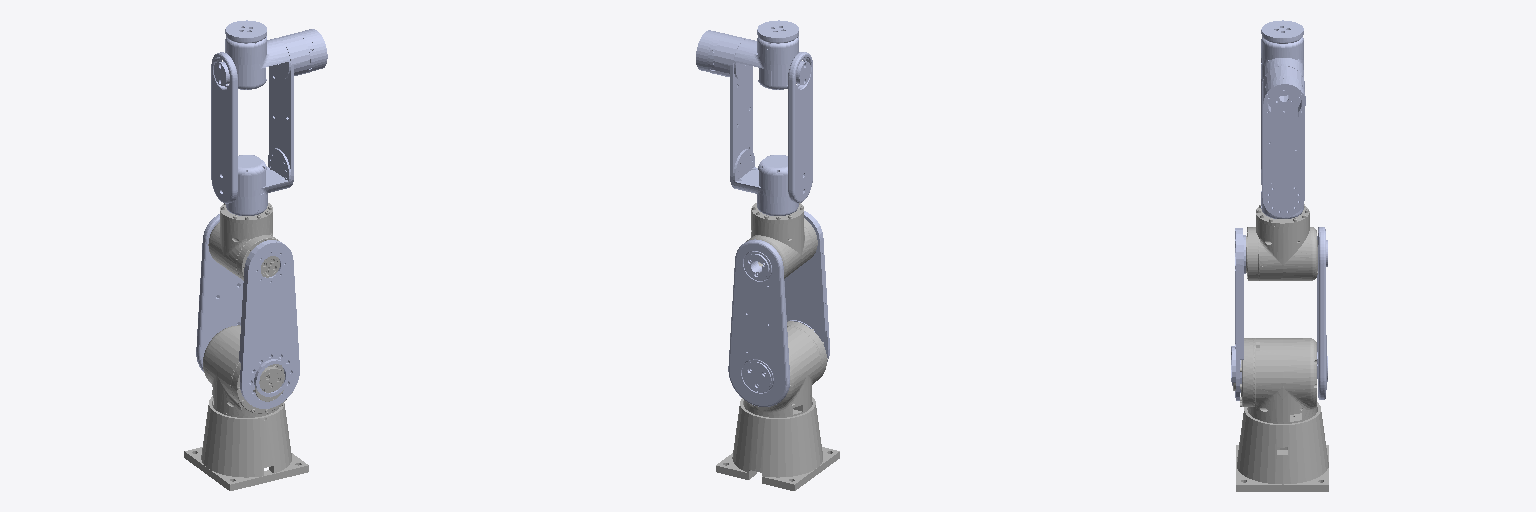
The robot description file, URDF, robot "gemini_arm_description":
<robot
  name="gemini_arm_description">
  <link
    name="base_link">
    <inertial>
      <origin
        xyz="-0.000343175586928216 0.00159787363524551 0.0403642614752203"
        rpy="0 0 0" />
      <mass
        value="0.538356341355379" />
      <inertia
        ixx="0.000222899831003166"
        ixy="3.6750996181586E-07"
        ixz="-6.55749815031899E-07"
        iyy="0.000221481349506303"
        iyz="4.21671858829903E-06"
        izz="3.91522409370846E-06" />
    </inertial>
    <visual>
      <origin
        xyz="0 0 0"
        rpy="0 0 0" />
      <geometry>
        <mesh
          filename="package://gemini_arm_description/meshes/base_link.STL" />
      </geometry>
      <material
        name="">
        <color
          rgba="0.752941176470588 0.752941176470588 0.752941176470588 1" />
      </material>
    </visual>
    <collision>
      <origin
        xyz="0 0 0"
        rpy="0 0 0" />
      <geometry>
        <mesh
          filename="package://gemini_arm_description/meshes/base_link.STL" />
      </geometry>
    </collision>
  </link>
  <link
    name="link1">
    <inertial>
      <origin
        xyz="0.000243676555697897 -0.00765546940645542 0.0548166765281359"
        rpy="0 0 0" />
      <mass
        value="0.429111339765701" />
      <inertia
        ixx="0.000409405108031968"
        ixy="7.26674271771078E-06"
        ixz="-5.90571331289724E-07"
        iyy="8.54561562597211E-05"
        iyz="2.90764208063658E-05"
        izz="0.000326683712310297" />
    </inertial>
    <visual>
      <origin
        xyz="0 0 0"
        rpy="0 0 0" />
      <geometry>
        <mesh
          filename="package://gemini_arm_description/meshes/link1.STL" />
      </geometry>
      <material
        name="">
        <color
          rgba="0.752941176470588 0.752941176470588 0.752941176470588 1" />
      </material>
    </visual>
    <collision>
      <origin
        xyz="0 0 0"
        rpy="0 0 0" />
      <geometry>
        <mesh
          filename="package://gemini_arm_description/meshes/link1.STL" />
      </geometry>
    </collision>
  </link>
  <joint
    name="joint1"
    type="continuous">
    <origin
      xyz="0 0 0.0919999999999988"
      rpy="0 -5.40931672317945E-57 0" />
    <parent
      link="base_link" />
    <child
      link="link1" />
    <axis
      xyz="0 0 1" />
  </joint>
  <link
    name="link2">
    <inertial>
      <origin
        xyz="-8.17473248963282E-05 0.0758952429917856 -0.00330618034523168"
        rpy="0 0 0" />
      <mass
        value="0.302188994279633" />
      <inertia
        ixx="0.0010159649861604"
        ixy="-2.93594711382165E-06"
        ixz="-2.13328310648836E-05"
        iyy="0.00086331027836668"
        iyz="-0.000118741141128118"
        izz="0.000153709642304199" />
    </inertial>
    <visual>
      <origin
        xyz="0 0 0"
        rpy="0 0 0" />
      <geometry>
        <mesh
          filename="package://gemini_arm_description/meshes/link2.STL" />
      </geometry>
      <material
        name="">
        <color
          rgba="0.792156862745098 0.819607843137255 0.933333333333333 1" />
      </material>
    </visual>
    <collision>
      <origin
        xyz="0 0 0"
        rpy="0 0 0" />
      <geometry>
        <mesh
          filename="package://gemini_arm_description/meshes/link2.STL" />
      </geometry>
    </collision>
  </link>
  <joint
    name="joint2"
    type="continuous">
    <origin
      xyz="0 0 0.0599999999999999"
      rpy="1.57079632679489 4.93038065763132E-29 0" />
    <parent
      link="link1" />
    <child
      link="link2" />
    <axis
      xyz="0.0247180551164637 0 0.999694462198956" />
  </joint>
  <link
    name="link3">
    <inertial>
      <origin
        xyz="1.46872506379563E-05 0.00957042421327847 0.000512942113211012"
        rpy="0 0 0" />
      <mass
        value="0.304609228794722" />
      <inertia
        ixx="0.000242576727670286"
        ixy="2.17319668714494E-07"
        ixz="-4.7905709289069E-06"
        iyy="0.000193449162659685"
        iyz="8.79117964216293E-06"
        izz="4.93660161141823E-05" />
    </inertial>
    <visual>
      <origin
        xyz="0 0 0"
        rpy="0 0 0" />
      <geometry>
        <mesh
          filename="package://gemini_arm_description/meshes/link3.STL" />
      </geometry>
      <material
        name="">
        <color
          rgba="0.752941176470588 0.752941176470588 0.752941176470588 1" />
      </material>
    </visual>
    <collision>
      <origin
        xyz="0 0 0"
        rpy="0 0 0" />
      <geometry>
        <mesh
          filename="package://gemini_arm_description/meshes/link3.STL" />
      </geometry>
    </collision>
  </link>
  <joint
    name="joint3"
    type="continuous">
    <origin
      xyz="0 0.16 0"
      rpy="0 0 0" />
    <parent
      link="link2" />
    <child
      link="link3" />
    <axis
      xyz="0.0247180551164622 0 0.999694462198956" />
  </joint>
  <link
    name="link4">
    <inertial>
      <origin
        xyz="0.0159924901724656 0.000394301121184798 0.105073896318767"
        rpy="0 0 0" />
      <mass
        value="0.305571701729797" />
      <inertia
        ixx="0.0010393292967984"
        ixy="-1.38485655196205E-05"
        ixz="-0.000380817386311283"
        iyy="0.00159912419773307"
        iyz="-9.4482590918704E-06"
        izz="0.000560479698533195" />
    </inertial>
    <visual>
      <origin
        xyz="0 0 0"
        rpy="0 0 0" />
      <geometry>
        <mesh
          filename="package://gemini_arm_description/meshes/link4.STL" />
      </geometry>
      <material
        name="">
        <color
          rgba="0.792156862745098 0.819607843137255 0.933333333333333 1" />
      </material>
    </visual>
    <collision>
      <origin
        xyz="0 0 0"
        rpy="0 0 0" />
      <geometry>
        <mesh
          filename="package://gemini_arm_description/meshes/link4.STL" />
      </geometry>
    </collision>
  </link>
  <joint
    name="joint4"
    type="continuous">
    <origin
      xyz="0 0.0604999999999999 0"
      rpy="-1.5707963267949 -2.77833251643473E-32 5.14058640557261E-17" />
    <parent
      link="link3" />
    <child
      link="link4" />
    <axis
      xyz="0 0 1" />
  </joint>
  <link
    name="link5">
    <inertial>
      <origin
        xyz="2.65427314211086E-06 0.0138850593175555 0.0468056414886495"
        rpy="0 0 0" />
      <mass
        value="0.109576445134181" />
      <inertia
        ixx="5.10151179021903E-05"
        ixy="-4.88131136782569E-09"
        ixz="-1.75636527417655E-09"
        iyy="2.66411210366452E-05"
        iyz="-2.82682039948589E-08"
        izz="2.43739993985074E-05" />
    </inertial>
    <visual>
      <origin
        xyz="0 0 0"
        rpy="0 0 0" />
      <geometry>
        <mesh
          filename="package://gemini_arm_description/meshes/link5.STL" />
      </geometry>
      <material
        name="">
        <color
          rgba="0.792156862745098 0.819607843137255 0.933333333333333 1" />
      </material>
    </visual>
    <collision>
      <origin
        xyz="0 0 0"
        rpy="0 0 0" />
      <geometry>
        <mesh
          filename="package://gemini_arm_description/meshes/link5.STL" />
      </geometry>
    </collision>
  </link>
  <joint
    name="joint5"
    type="continuous">
    <origin
      xyz="0.0519841120343461 0.00128533886604094 0.205700000000028"
      rpy="1.5707963267949 4.08640132765619E-15 -1.54607575393743" />
    <parent
      link="link4" />
    <child
      link="link5" />
    <axis
      xyz="0 0 -1" />
  </joint>
  <link
    name="link6">
    <inertial>
      <origin
        xyz="-0.000487488203539693 -0.00051220625866924 0.00502342428325087"
        rpy="0 0 0" />
      <mass
        value="0.0205479341797186" />
      <inertia
        ixx="0"
        ixy="0"
        ixz="0"
        iyy="0"
        iyz="0"
        izz="0" />
    </inertial>
    <visual>
      <origin
        xyz="0 0 0"
        rpy="0 0 0" />
      <geometry>
        <mesh
          filename="package://gemini_arm_description/meshes/link6.STL" />
      </geometry>
      <material
        name="">
        <color
          rgba="0.792156862745098 0.819607843137255 0.933333333333333 1" />
      </material>
    </visual>
    <collision>
      <origin
        xyz="0 0 0"
        rpy="0 0 0" />
      <geometry>
        <mesh
          filename="package://gemini_arm_description/meshes/link6.STL" />
      </geometry>
    </collision>
  </link>
  <joint
    name="joint6"
    type="continuous">
    <origin
      xyz="-0.000500000000009104 0.0456999999999731 0.0520000000000012"
      rpy="-1.5707963267949 1.54607575393742 -5.32136220132745E-14" />
    <parent
      link="link5" />
    <child
      link="link6" />
    <axis
      xyz="0 0 1" />
  </joint>
</robot>

--- What the picture shows (computed from the rendered views, not written in the file) ---
The picture shows the robot from 3 angles, left to right: view 1: azimuth 30°, elevation 25°; view 2: azimuth 150°, elevation 25°; view 3: azimuth 270°, elevation 25°; orthographic projection.
Robot: gemini_arm_description — 7 links, 6 joints (6 continuous); root link base_link; default pose: all joints at 0.
Visible links, largest first — view 1: link2, link4, base_link, link1, link3, link5, link6; view 2: link2, link4, base_link, link1, link3, link5, link6; view 3: base_link, link4, link1, link3, link2, link5, link6.
Link boxes in pixels (x1,y1,x2,y2): link2: (196, 214, 299, 408); link4: (211, 29, 327, 215); base_link: (184, 396, 308, 490); link1: (203, 325, 292, 417); link3: (208, 203, 279, 280); link5: (214, 36, 290, 89); link6: (225, 20, 266, 43); link2: (728, 211, 829, 406); link4: (696, 30, 812, 215); base_link: (716, 397, 839, 490); link1: (744, 321, 827, 417); link3: (746, 203, 817, 278); link5: (734, 36, 810, 89); link6: (757, 20, 798, 43); base_link: (1236, 402, 1328, 491); link4: (1261, 58, 1305, 218); link1: (1233, 338, 1316, 423); link3: (1246, 204, 1317, 280); link2: (1231, 227, 1327, 400); link5: (1261, 37, 1304, 95); link6: (1261, 20, 1303, 43).
Bounding box of the posed robot: 0.1687 × 0.1268 × 0.6334 m (x, y, z).
7 mesh visuals loaded from 7 distinct referenced files (7 binary STL).
